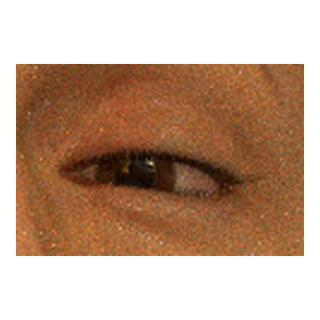pupil: (117, 159, 152, 194)
